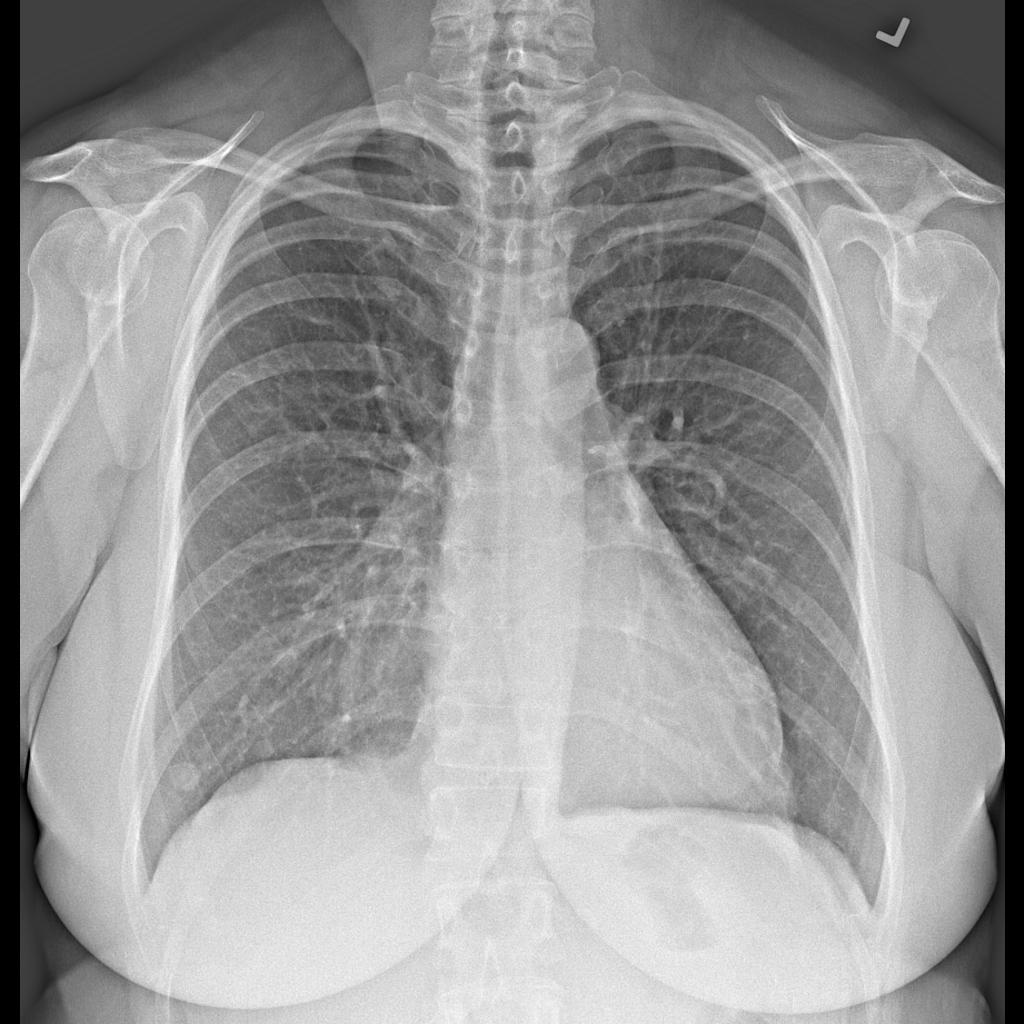Nodule: (159, 750, 211, 800)
